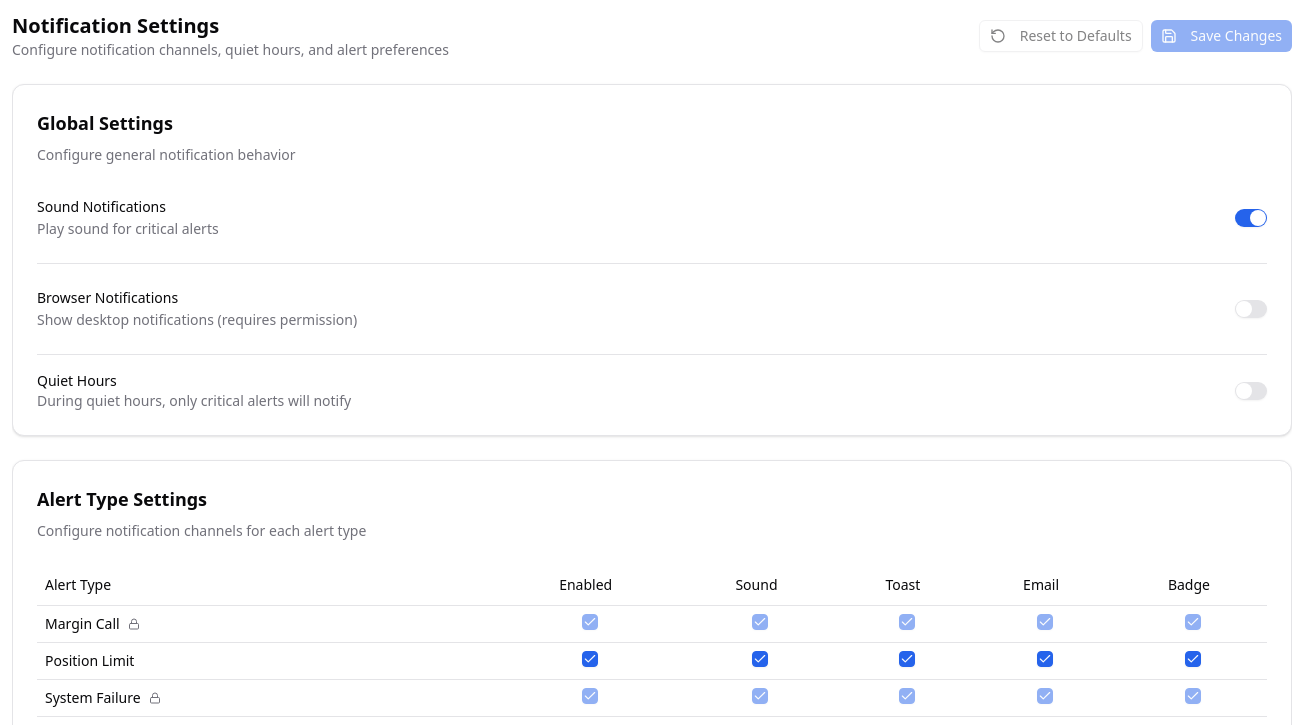
Test: NotificationPreferencesPage › Form Actions › should enable save button when changes are made
Click the switch named "sound notifications" in the row of "Play sound for critical alerts" at (1251, 218), box top-left (1235, 209), bottom-right (1267, 227)
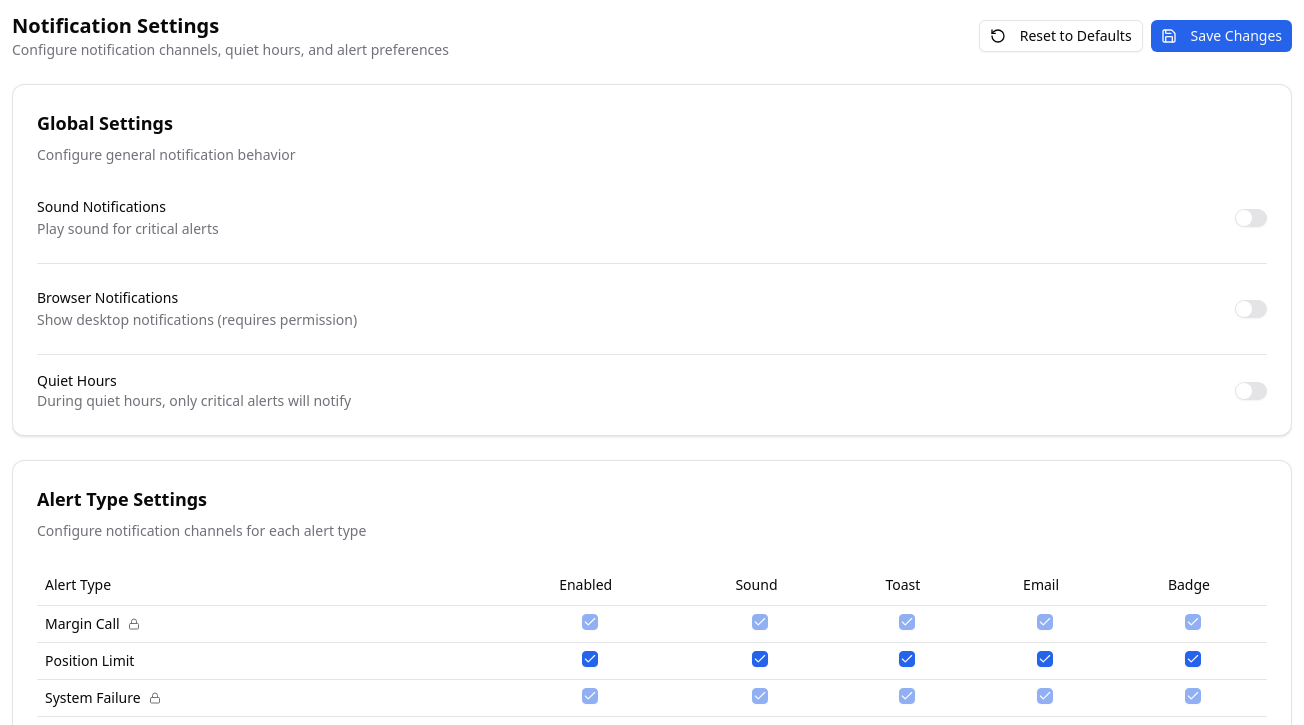
Expected: the button "Save Changes" is enabled, top-left (1151, 20), bottom-right (1292, 52)
